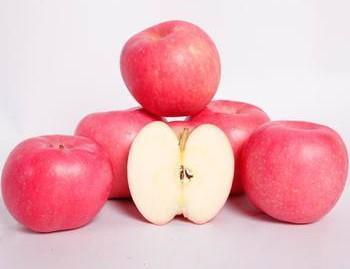apple: (1, 132, 115, 233), (241, 120, 350, 224), (121, 20, 225, 119)
